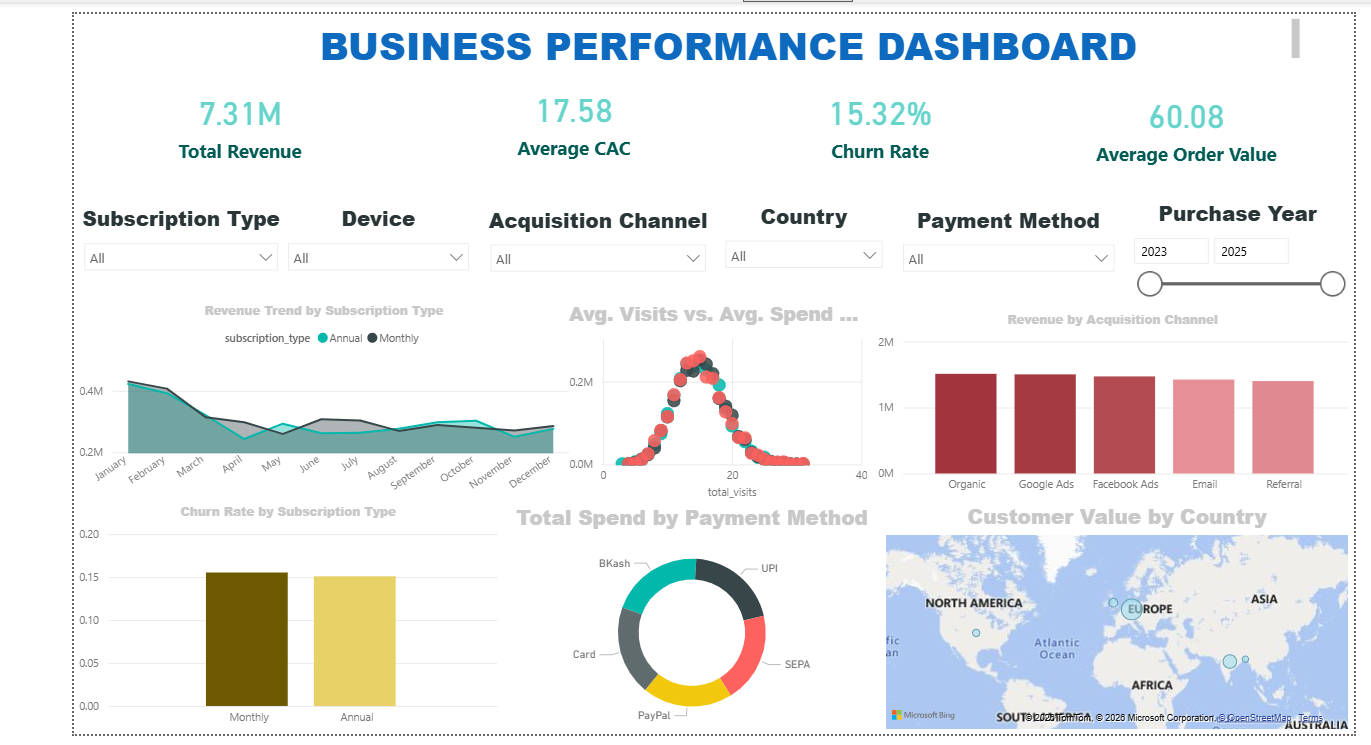

Layout of this report page (visuals, bound fields, positions):
{"tool":"powerbi","page":{"name":"Page 1","canvas":[1280,720],"ordinal":0},"visuals":[{"type":"card","title":"Total Revenue","fields":{"Values":["Sum(Final_Cleaned_PowerBI_Dataset.revenue)"]},"box":[0,52.2,332.5,113.7],"z":0},{"type":"card","fields":{"Values":["Avg(Final_Cleaned_PowerBI_Dataset.customer_acquisition_cost)"]},"box":[332.5,47.3,334.9,118.6],"z":1000},{"type":"card","fields":{"Values":["Final_Cleaned_PowerBI_Dataset.cRAte"]},"box":[639.3,52.2,334.9,113.7],"z":2000},{"type":"card","fields":{"Values":["Avg(Final_Cleaned_PowerBI_Dataset.average_order_value)"]},"box":[944.9,58.3,334.9,107.6],"z":3000},{"type":"clusteredColumnChart","title":"Revenue by Acquisition Channel","fields":{"Category":["Final_Cleaned_PowerBI_Dataset.acquisition_channel"],"Y":["Sum(Final_Cleaned_PowerBI_Dataset.revenue)"]},"box":[798.6,295.7,480,191.4],"z":4000},{"type":"clusteredColumnChart","title":"Churn Rate by Subscription Type","fields":{"Category":["Final_Cleaned_PowerBI_Dataset.subscription_type"],"Y":["Final_Cleaned_PowerBI_Dataset.Churn Rate"]},"box":[0,488.6,428.6,231.4],"z":5000},{"type":"slicer","title":"Purchase Year","fields":{"Values":["Final_Cleaned_PowerBI_Dataset.purchase_year"]},"box":[1047.6,184.5,232.3,101.5],"z":6000},{"type":"slicer","title":"Country","fields":{"Values":["Final_Cleaned_PowerBI_Dataset.country"]},"box":[641.4,188,177.1,87.1],"z":7000},{"type":"slicer","title":"Subscription Type","fields":{"Values":["Final_Cleaned_PowerBI_Dataset.subscription_type"]},"box":[0,189.4,214.3,102.9],"z":8000},{"type":"slicer","title":"Device","fields":{"Values":["Final_Cleaned_PowerBI_Dataset.device_type"]},"box":[204.3,190,201.4,115.7],"z":9000},{"type":"slicer","title":"Acquisition Channel","fields":{"Values":["Final_Cleaned_PowerBI_Dataset.acquisition_channel"]},"box":[405.7,191.4,235.7,88.6],"z":10000},{"type":"areaChart","title":"Revenue Trend by Subscription Type","fields":{"Category":["Final_Cleaned_PowerBI_Dataset.purchase_year","Final_Cleaned_PowerBI_Dataset.purchase_year_month.Variation.Date Hierarchy.Year","Final_Cleaned_PowerBI_Dataset.purchase_year_month.Variation.Date Hierarchy.Quarter","Final_Cleaned_PowerBI_Dataset.purchase_year_month.Variation.Date Hierarchy.Month","Final_Cleaned_PowerBI_Dataset.purchase_year_month.Variation.Date Hierarchy.Day"],"Series":["Final_Cleaned_PowerBI_Dataset.subscription_type"],"Y":["Sum(Final_Cleaned_PowerBI_Dataset.revenue)"]},"box":[0,287.1,500,201.4],"z":11000},{"type":"textbox","box":[111.2,0,1119.7,55],"z":12000},{"type":"map","title":"Customer Value by Country","fields":{"Category":["Final_Cleaned_PowerBI_Dataset.country"],"Size":["Sum(Final_Cleaned_PowerBI_Dataset.lifetime_value)"]},"box":[807.1,487.1,471.4,232.9],"z":13000},{"type":"donutChart","title":"Total Spend by Payment Method","fields":{"Category":["Final_Cleaned_PowerBI_Dataset.payment_method"],"Y":["Sum(Final_Cleaned_PowerBI_Dataset.total_spent)"]},"box":[428.6,488.6,378.6,231.4],"z":14000},{"type":"scatterChart","title":"Avg. Visits vs. Avg. Spend by Country","fields":{"X":["Final_Cleaned_PowerBI_Dataset.total_visits"],"Y":["Sum(Final_Cleaned_PowerBI_Dataset.total_spent)"],"Series":["Final_Cleaned_PowerBI_Dataset.device_type"]},"box":[490,285.7,308.6,202.9],"z":15000},{"type":"slicer","title":"Payment Method","fields":{"Values":["Final_Cleaned_PowerBI_Dataset.payment_method"]},"box":[818.6,190.9,231.4,90],"z":16000}]}

Visuals, with their boxes on the page's 1280x720 design canvas (x1, y1, x2, y2). These are canvas units, not pixel positions in the 1371x745 screenshot, which may show the page scaled, cropped or inside an application window:
"Total Revenue" card: {"x1": 0, "y1": 52, "x2": 332, "y2": 166}
card - Avg(Final_Cleaned_PowerBI_Dataset.customer_acquisition_cost): {"x1": 332, "y1": 47, "x2": 667, "y2": 166}
card - Final_Cleaned_PowerBI_Dataset.cRAte: {"x1": 639, "y1": 52, "x2": 974, "y2": 166}
card - Avg(Final_Cleaned_PowerBI_Dataset.average_order_value): {"x1": 945, "y1": 58, "x2": 1280, "y2": 166}
"Revenue by Acquisition Channel" clusteredColumnChart: {"x1": 799, "y1": 296, "x2": 1279, "y2": 487}
"Churn Rate by Subscription Type" clusteredColumnChart: {"x1": 0, "y1": 489, "x2": 429, "y2": 720}
"Purchase Year" slicer: {"x1": 1048, "y1": 184, "x2": 1280, "y2": 286}
"Country" slicer: {"x1": 641, "y1": 188, "x2": 818, "y2": 275}
"Subscription Type" slicer: {"x1": 0, "y1": 189, "x2": 214, "y2": 292}
"Device" slicer: {"x1": 204, "y1": 190, "x2": 406, "y2": 306}
"Acquisition Channel" slicer: {"x1": 406, "y1": 191, "x2": 641, "y2": 280}
"Revenue Trend by Subscription Type" areaChart: {"x1": 0, "y1": 287, "x2": 500, "y2": 488}
textbox: {"x1": 111, "y1": 0, "x2": 1231, "y2": 55}
"Customer Value by Country" map: {"x1": 807, "y1": 487, "x2": 1278, "y2": 720}
"Total Spend by Payment Method" donutChart: {"x1": 429, "y1": 489, "x2": 807, "y2": 720}
"Avg. Visits vs. Avg. Spend by Country" scatterChart: {"x1": 490, "y1": 286, "x2": 799, "y2": 489}
"Payment Method" slicer: {"x1": 819, "y1": 191, "x2": 1050, "y2": 281}
